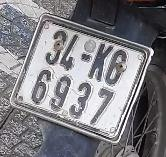3: (64, 78, 97, 123), (43, 26, 73, 67)
4: (57, 31, 87, 74)
6: (102, 44, 133, 90), (28, 67, 57, 108)
7: (85, 85, 120, 128)
9: (46, 72, 76, 115)
K: (85, 39, 117, 83)
